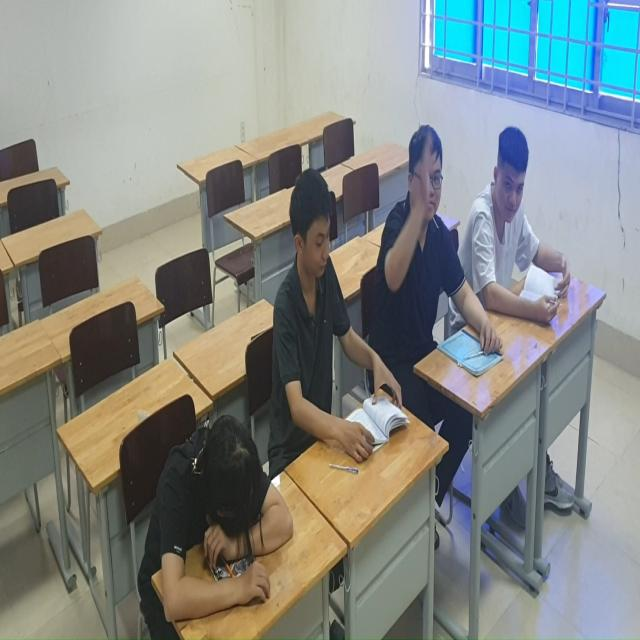raise_hand: (376, 91, 458, 371)
read: (268, 170, 409, 473), (444, 104, 575, 348)
sleep: (124, 411, 295, 640)
